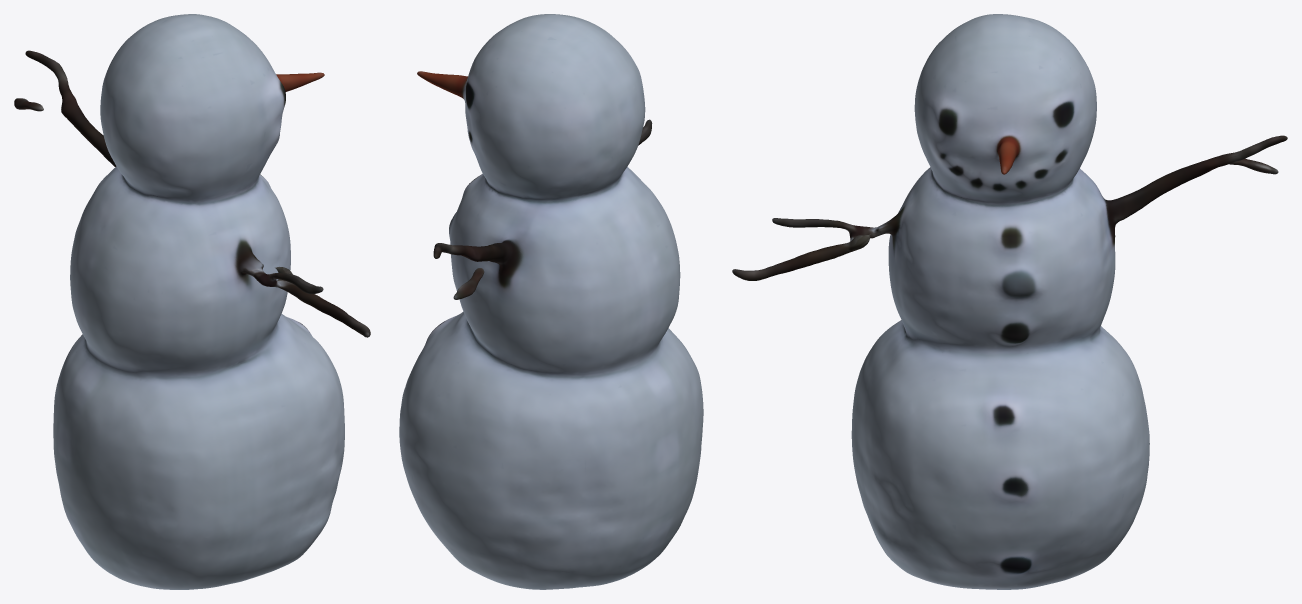
Rendered from snowman.glb.
3 renders of one model, left to right at view 1: azimuth 30°, elevation 25°; view 2: azimuth 150°, elevation 25°; view 3: azimuth 270°, elevation 25°, orthographic.
Parts seen in each view (by area): view 1: world; view 2: world; view 3: world.
Boxes of the visible parts, x1=… form: world: x1=14, y1=14, x2=370, y2=589; world: x1=399, y1=14, x2=703, y2=589; world: x1=732, y1=14, x2=1287, y2=589.
Bounding box in the file's own units: 0.2865 × 0.5666 × 0.5302.
Materials: 1 (1 with a texture image).
